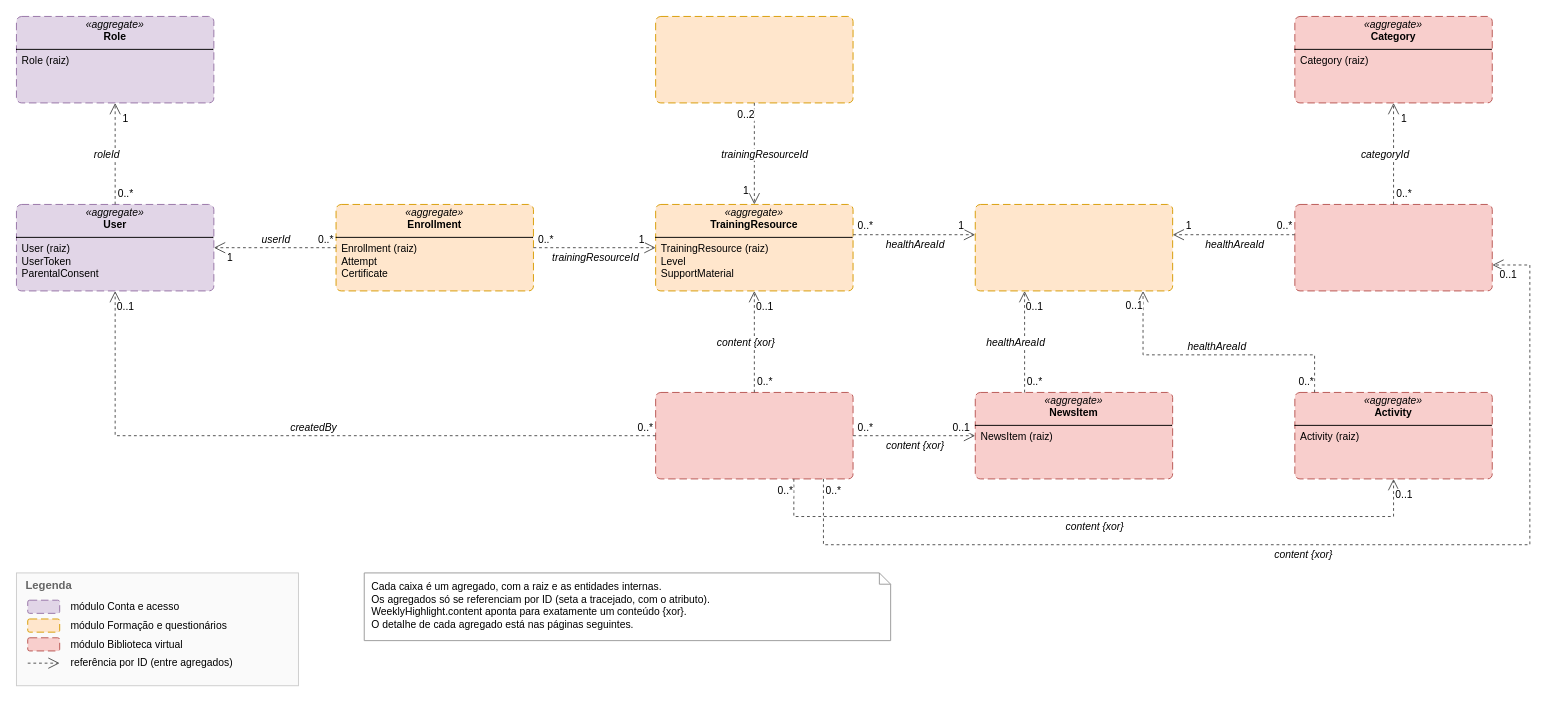
Image size: 1558x702. Some labels were removed from this diagram. The centre of each missing label's shape, as x and y in pixels:
"«aggregate» HealthArea HealthArea (raiz)" goes at point 1073,247.
"«aggregate» Publication Publication (raiz)" goes at point 1393,247.
"«aggregate» Questionnaire Questionnaire (raiz) Question AnswerOption" goes at point 754,59.
"«aggregate» WeeklyHighlight WeeklyHighlight (raiz)" goes at point 754,435.
